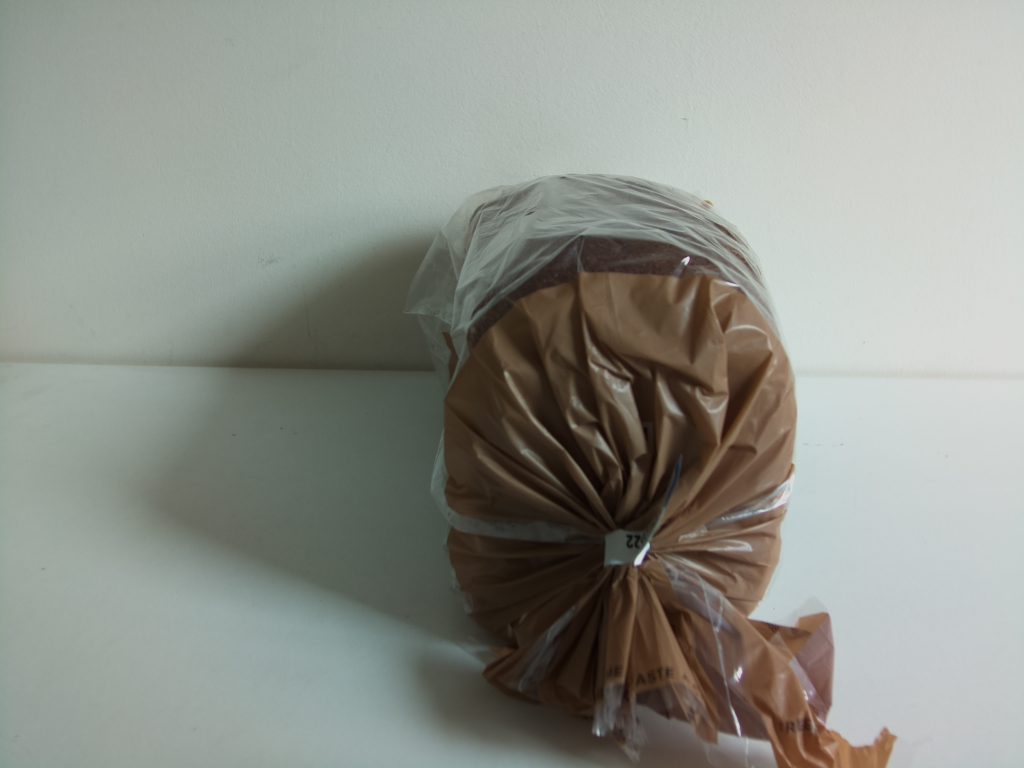bread: (440, 170, 898, 768)
